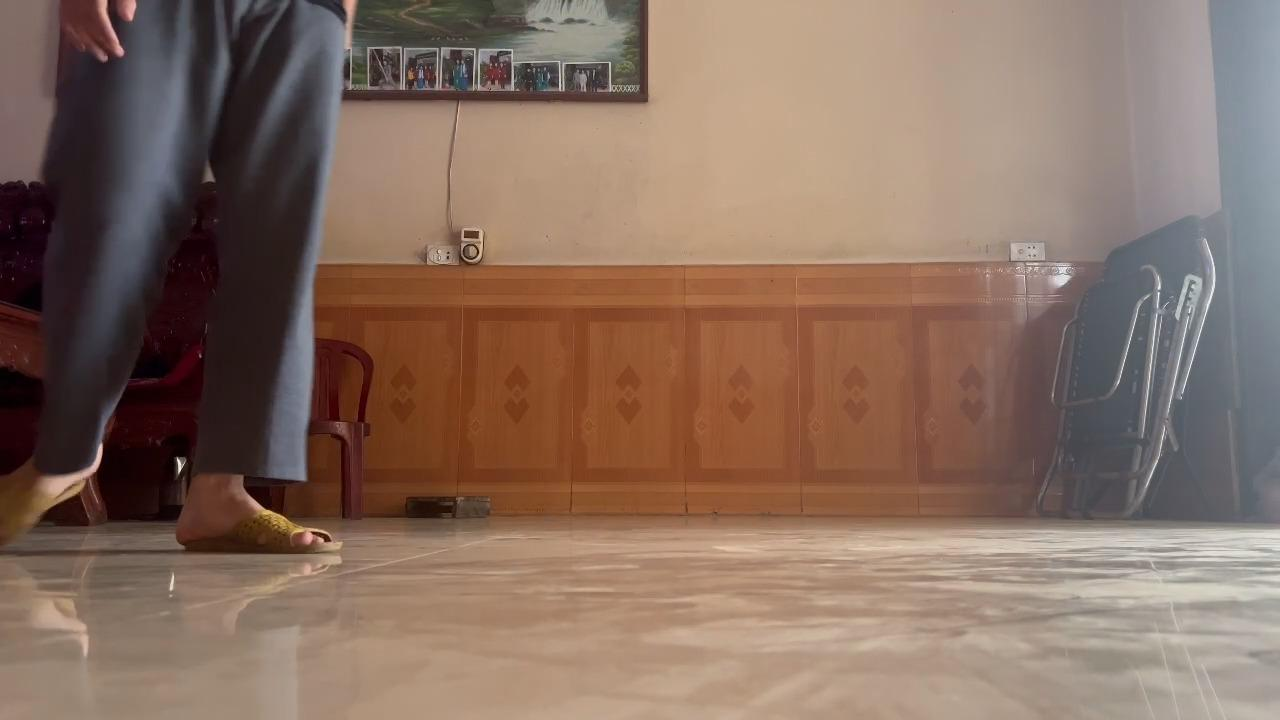no-boot: (169, 492, 348, 568), (0, 450, 112, 550)
